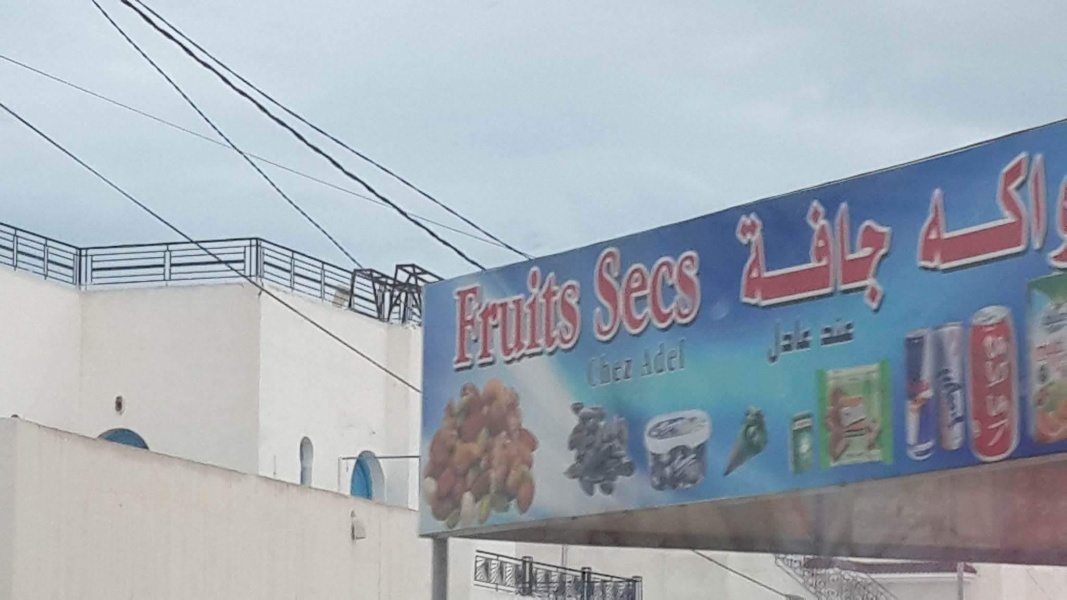text: (737, 181, 752, 327), (753, 181, 768, 327), (769, 181, 784, 327), (785, 181, 800, 327), (801, 181, 816, 327), (817, 181, 832, 327), (833, 181, 848, 327), (849, 181, 864, 327), (865, 181, 880, 327), (881, 181, 896, 327), (913, 139, 928, 278), (929, 139, 944, 278), (945, 139, 960, 278), (961, 139, 976, 278), (977, 139, 992, 278), (993, 139, 1008, 278), (1009, 139, 1024, 278), (1025, 139, 1040, 278), (993, 330, 1008, 452), (593, 228, 608, 349), (609, 228, 624, 349), (625, 228, 640, 349), (641, 228, 656, 349), (657, 228, 672, 349), (673, 228, 688, 349), (689, 228, 704, 349), (465, 254, 480, 373), (481, 254, 496, 373), (497, 254, 512, 373), (513, 254, 528, 373), (529, 254, 544, 373), (545, 254, 560, 373), (561, 254, 576, 373), (980, 330, 992, 452), (453, 254, 464, 373), (1041, 139, 1048, 278), (1009, 330, 1016, 452), (769, 314, 784, 369), (785, 314, 800, 369), (801, 314, 816, 369), (731, 181, 736, 327), (641, 334, 656, 378), (657, 334, 672, 378), (673, 334, 688, 378), (593, 349, 608, 390), (609, 349, 624, 390), (833, 314, 848, 347), (588, 228, 592, 349), (705, 228, 709, 349), (577, 254, 581, 373), (897, 181, 900, 327), (625, 349, 635, 390), (762, 314, 768, 369), (822, 314, 832, 347), (849, 314, 858, 347), (586, 349, 592, 390), (639, 334, 640, 378)
